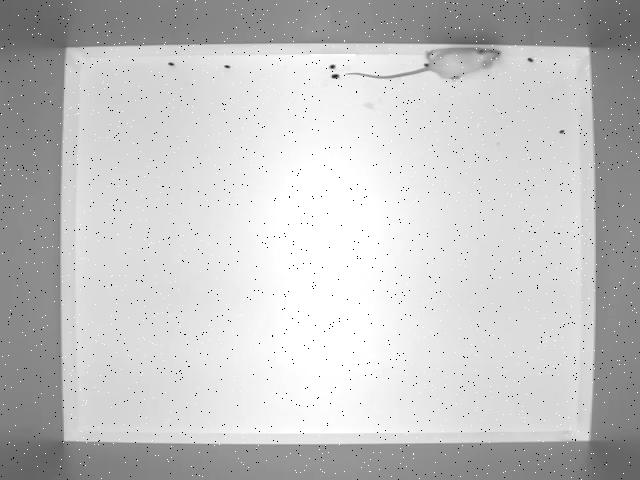Tikus: (344, 45, 506, 83)
